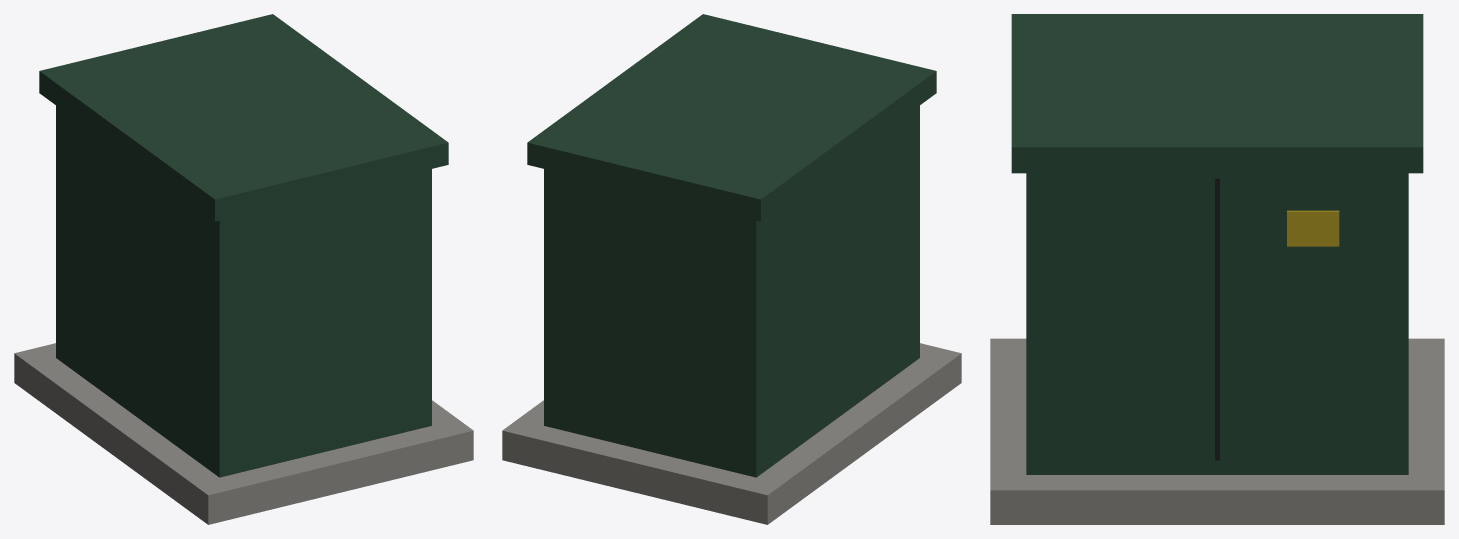
The model's file is SM_Prop_power_kiosk_0_LOD1.glb.
3 views of the same model, side by side, from view 1: azimuth 30°, elevation 25°; view 2: azimuth 150°, elevation 25°; view 3: azimuth 270°, elevation 25° (orthographic). The views are drawn at different scales.
Parts seen in each view (by area): view 1: SM_Prop_power_kiosk_0_LOD1; view 2: SM_Prop_power_kiosk_0_LOD1; view 3: SM_Prop_power_kiosk_0_LOD1.
Part boxes in pixels (<box>): SM_Prop_power_kiosk_0_LOD1: <box>14,14,473,524</box>; SM_Prop_power_kiosk_0_LOD1: <box>502,14,961,524</box>; SM_Prop_power_kiosk_0_LOD1: <box>990,14,1444,524</box>.
Bounding box in the file's own units: 1.5 × 1.7 × 1.9.
